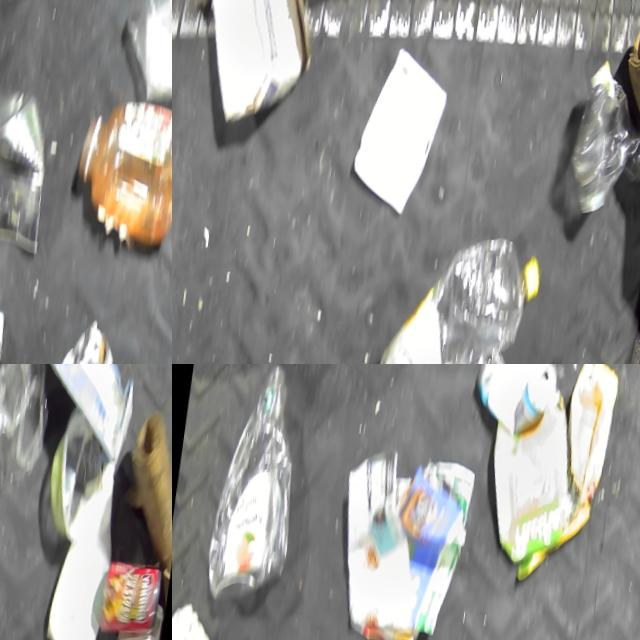can: (0, 75, 58, 277), (467, 364, 563, 449), (91, 562, 164, 640)
non_white_jug: (201, 364, 314, 610)
plastic_bottle: (366, 230, 545, 364), (559, 65, 640, 236)
